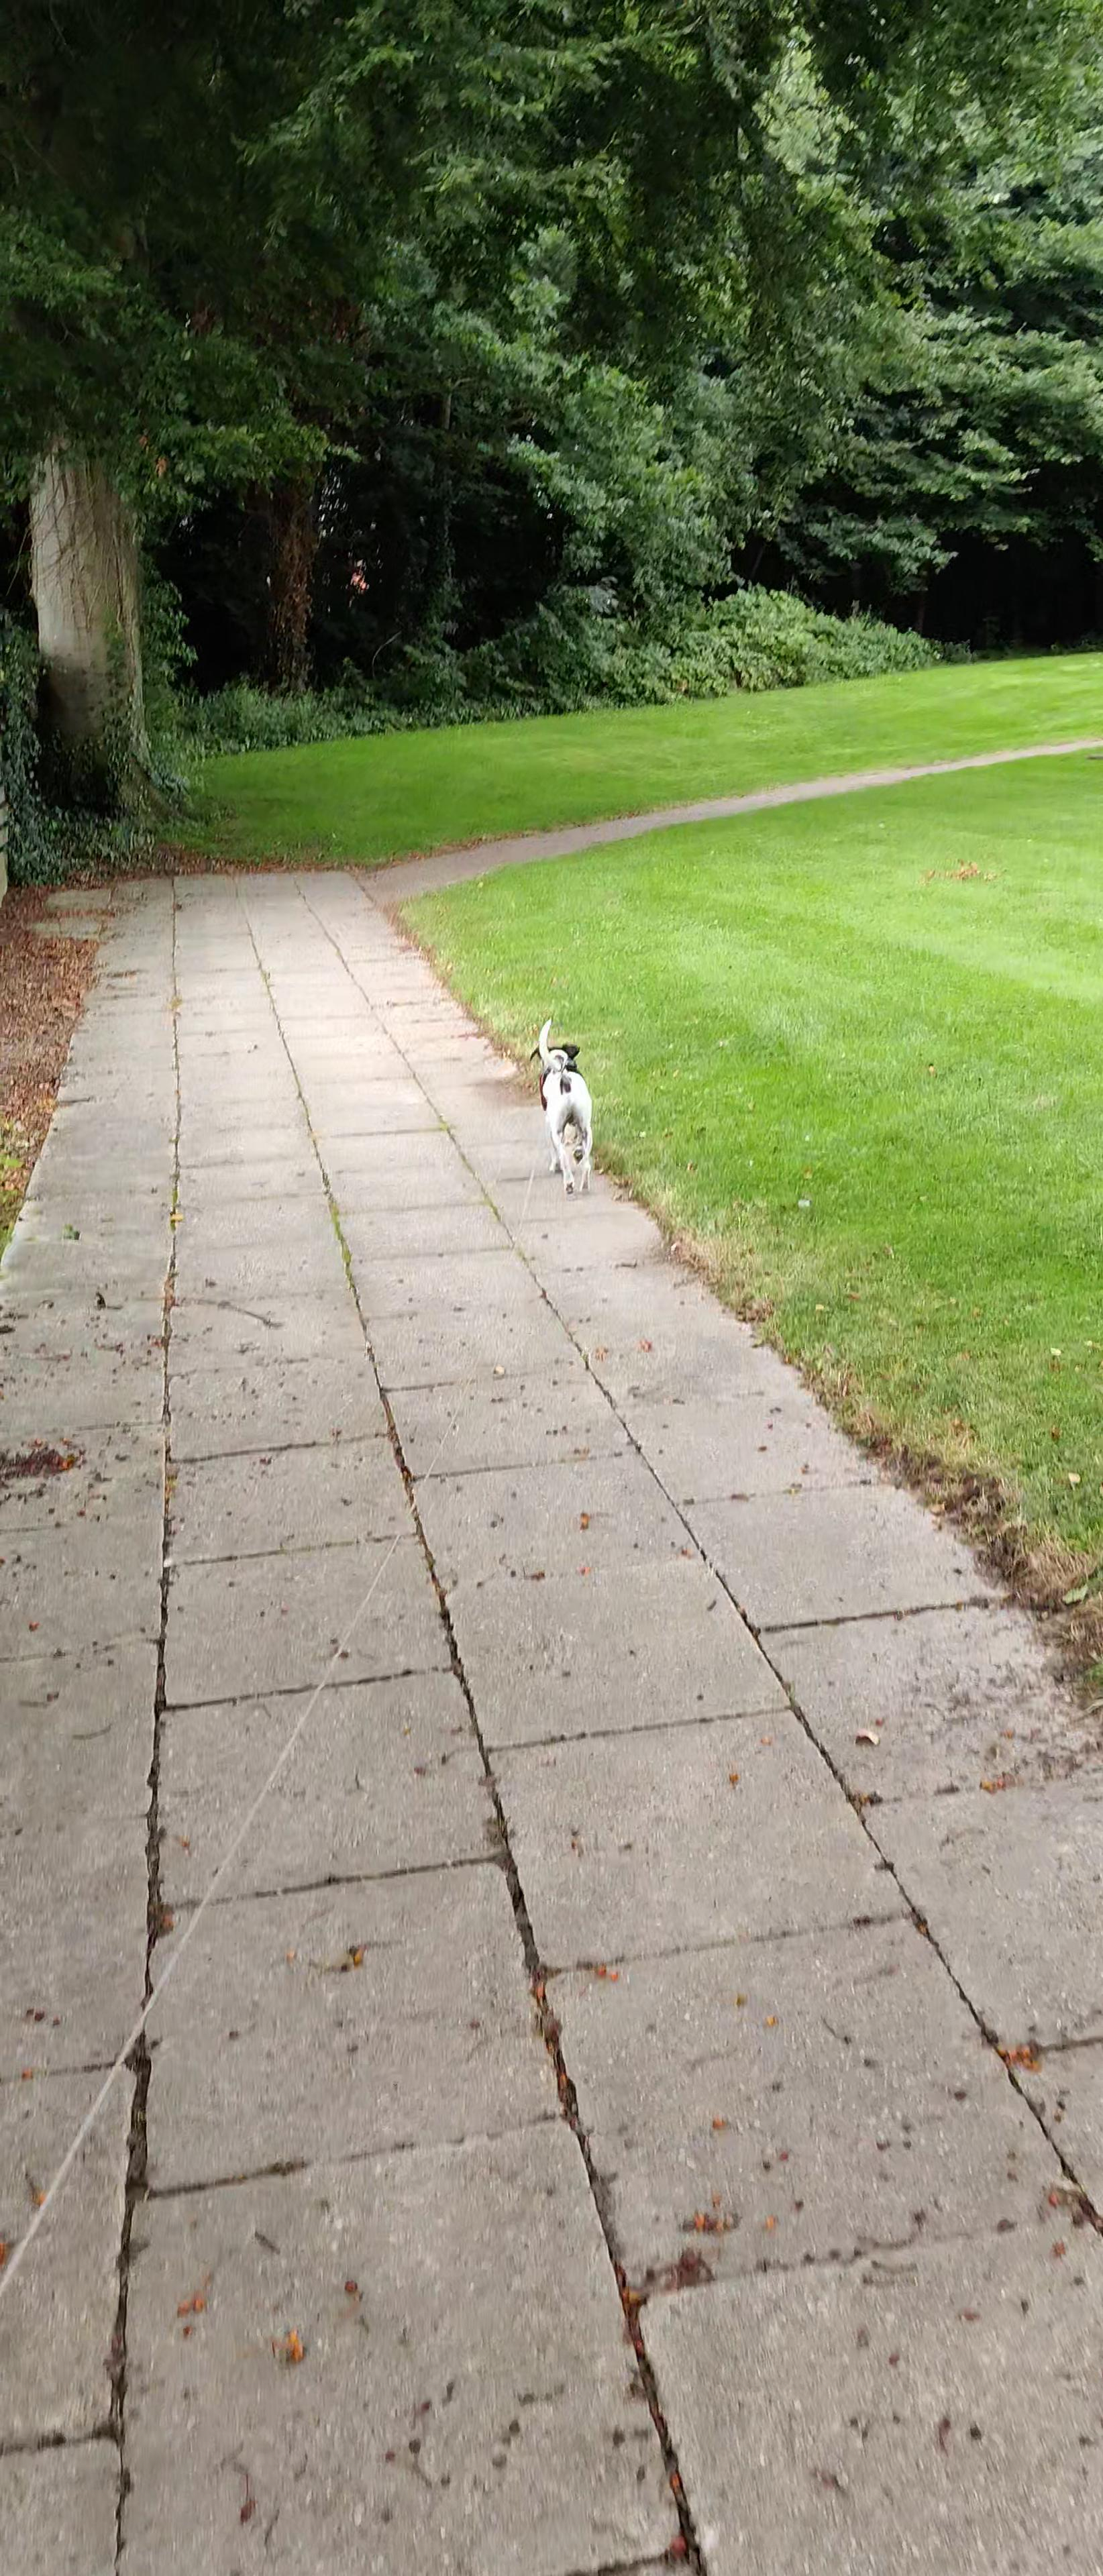Dog: (523, 1017, 600, 1206)
